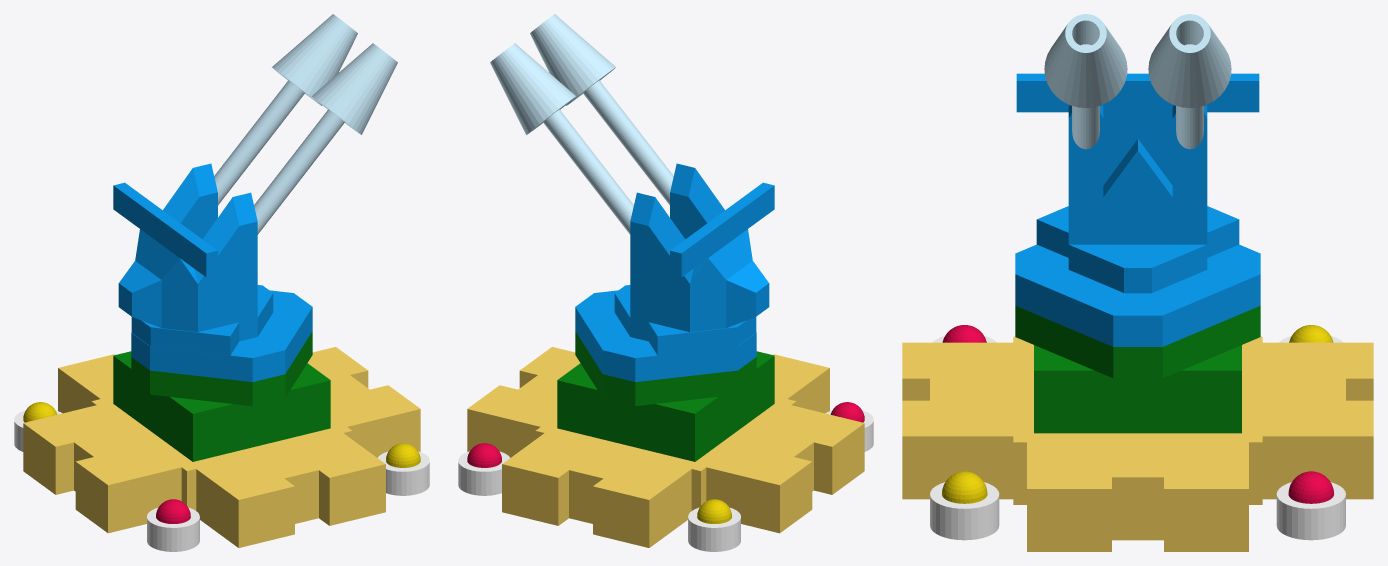
Rendered from LandCannon.dae.
The picture shows the model from 3 angles, left to right: view 1: azimuth 30°, elevation 25°; view 2: azimuth 150°, elevation 25°; view 3: azimuth 270°, elevation 25°; orthographic projection. The views are drawn at different scales.
Parts seen in each view (by area): view 1: Cube.002, Cube.011; view 2: Cube.002, Cube.011; view 3: Cube.002, Cube.011.
Boxes of the visible parts, bbox=[...] form: Cube.002: bbox=[14, 331, 429, 551]; Cube.011: bbox=[113, 14, 397, 381]; Cube.002: bbox=[458, 331, 873, 551]; Cube.011: bbox=[490, 14, 774, 381]; Cube.002: bbox=[902, 305, 1373, 551]; Cube.011: bbox=[1015, 14, 1260, 346].
Bounding box in the file's own units: 8.5 × 8.5 × 10.42.
